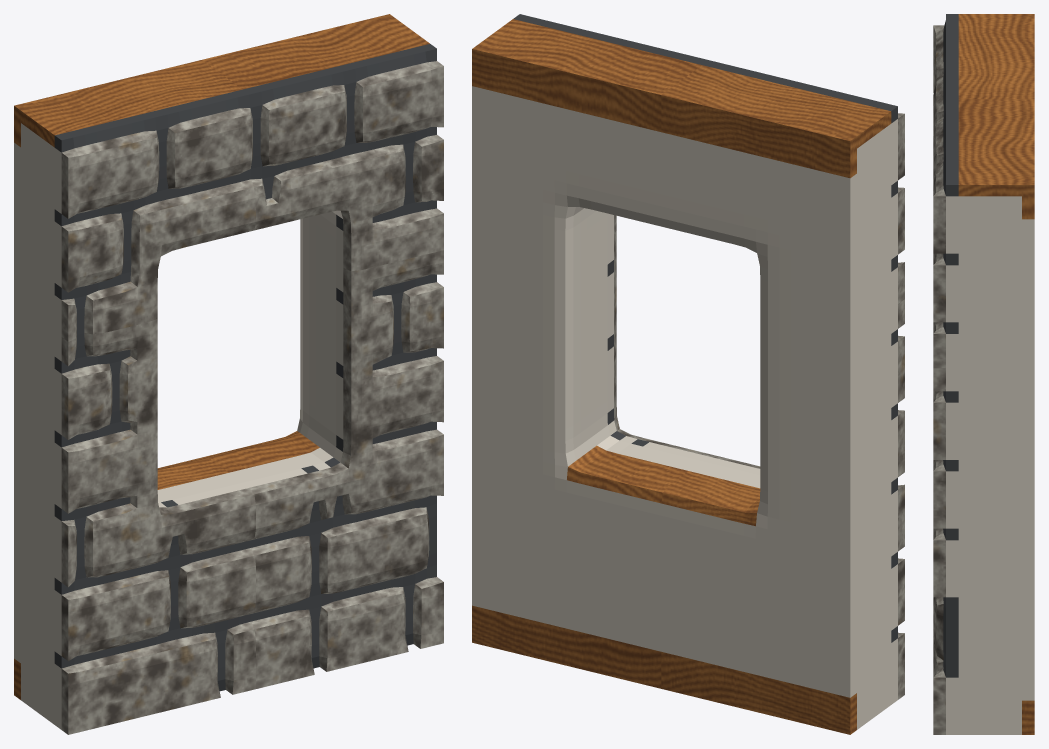
The model's file is wall_out_stone_window_open.glb.
The picture shows the model from 3 angles, left to right: view 1: azimuth 30°, elevation 25°; view 2: azimuth 150°, elevation 25°; view 3: azimuth 270°, elevation 25°; orthographic projection. The views are drawn at different scales.
Parts seen in each view (by area): view 1: town_wall_out_stone_window_open; view 2: town_wall_out_stone_window_open; view 3: town_wall_out_stone_window_open.
Part boxes in pixels (box(x1,y1,x2,y2)): town_wall_out_stone_window_open: box(14, 14, 443, 734); town_wall_out_stone_window_open: box(472, 14, 904, 734); town_wall_out_stone_window_open: box(933, 14, 1034, 734).
Bounding box in the file's own units: 1 × 1.5 × 0.25.
Materials: 3 (1 with a texture image).
